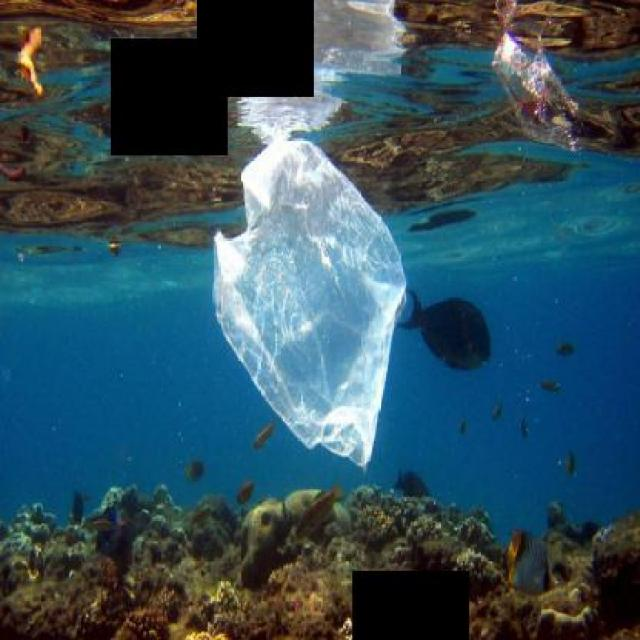plastic bag: (206, 134, 411, 458), (486, 0, 586, 152)
